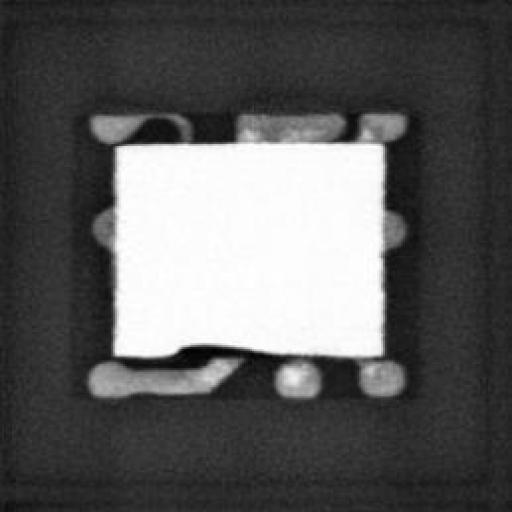DIE_BROKEN: (155, 340, 290, 356)
